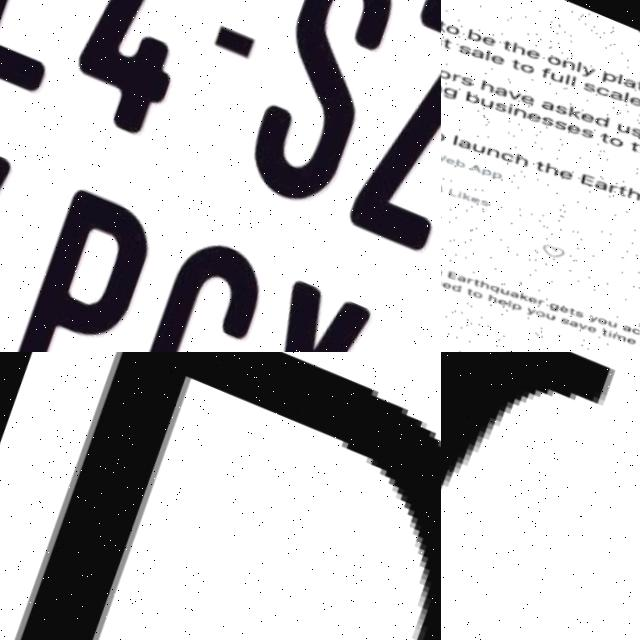4: (36, 0, 248, 152), (0, 137, 56, 352)
D: (0, 352, 441, 640)
E: (0, 0, 144, 105)
G: (81, 227, 287, 352)
P: (0, 180, 168, 352)
S: (212, 0, 422, 220)
Y: (180, 276, 374, 352)
Z: (318, 0, 441, 264)
